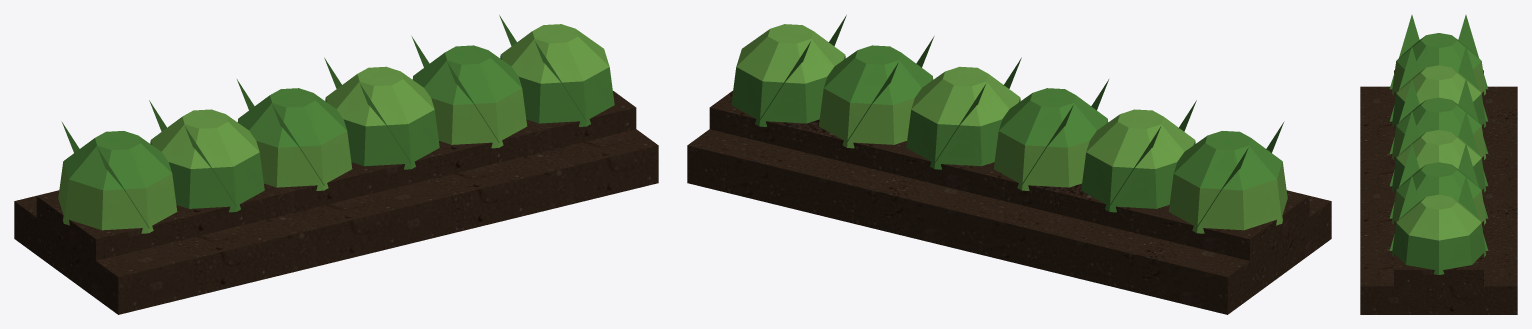
Rendered from vegetable_row_01.glb.
3 renders of one model, left to right at view 1: azimuth 30°, elevation 25°; view 2: azimuth 150°, elevation 25°; view 3: azimuth 270°, elevation 25°, orthographic. The views are drawn at different scales.
Parts seen in each view (by area): view 1: vegetable_row_01; view 2: vegetable_row_01; view 3: vegetable_row_01.
Boxes of the visible parts, x1,y1,x2,y2 form: vegetable_row_01: (14,15,658,314); vegetable_row_01: (687,15,1331,314); vegetable_row_01: (1360,15,1517,314).
Bounding box in the file's own units: 2.12 × 0.52 × 0.7.
Materials: 3 (3 with a texture image).
